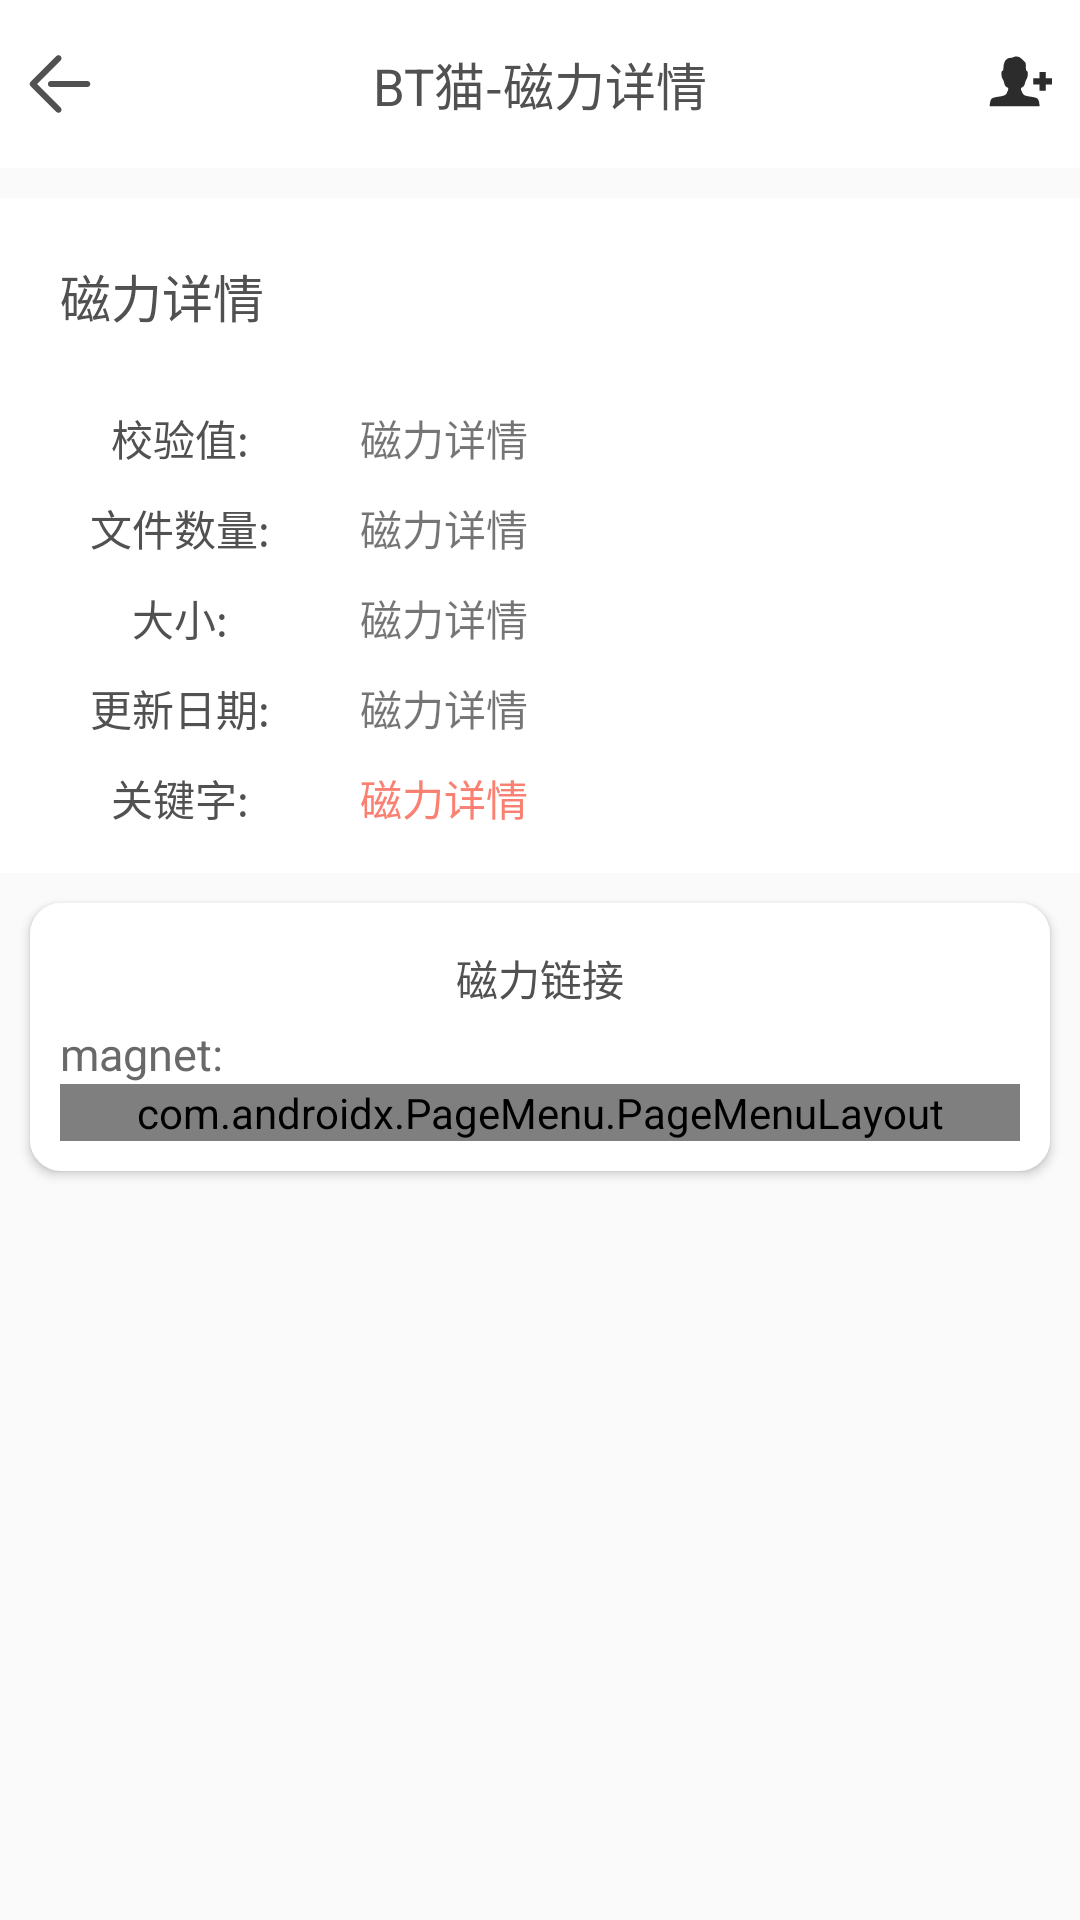

Screen size 1080x1920. Icon name, then its center in pixels as (x=x, y=y):
add: (x=1020, y=81)
back: (x=60, y=84)
